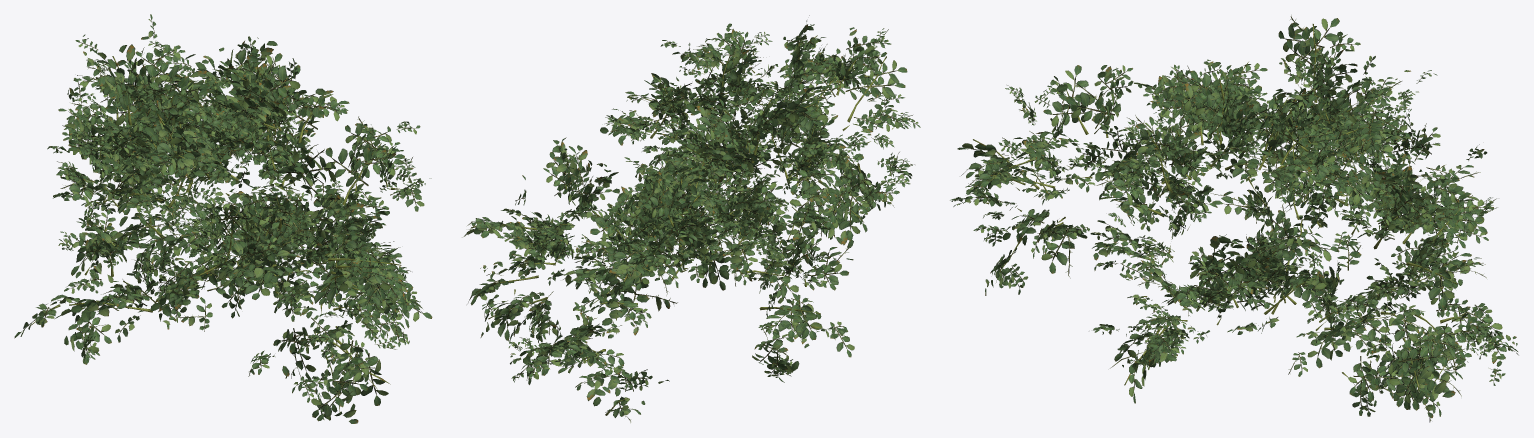
File: arbolpeq_L0_hojas.glb
3 renders of one model, left to right at view 1: azimuth 30°, elevation 25°; view 2: azimuth 150°, elevation 25°; view 3: azimuth 270°, elevation 25°, orthographic. The views are drawn at different scales.
Visible parts, largest first — view 1: tree_small_02_LOD0; view 2: tree_small_02_LOD0; view 3: tree_small_02_LOD0.
Part boxes in pixels (<box>): tree_small_02_LOD0: <box>14,14,432,423</box>; tree_small_02_LOD0: <box>462,15,920,422</box>; tree_small_02_LOD0: <box>950,15,1518,422</box>.
Bounding box in the file's own units: 3.03 × 2.69 × 4.33.
1 material, 1 textured.
